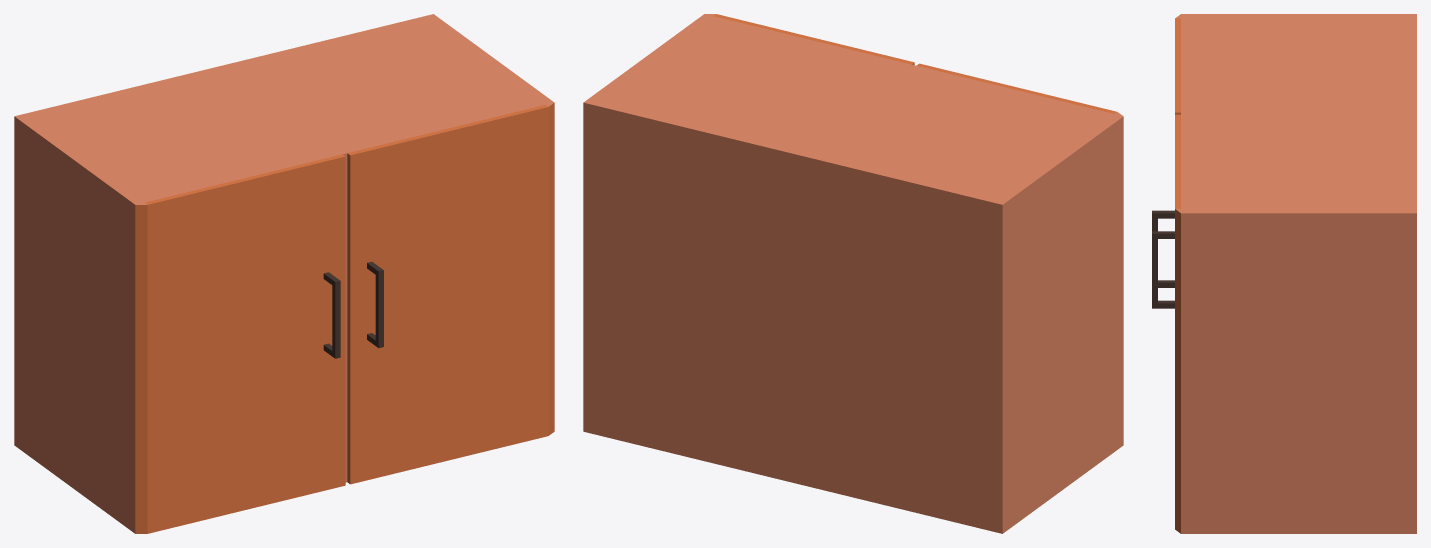
The model's file is meublesCuisineBas5fbx.fbx.
The picture shows the model from 3 angles, left to right: view 1: azimuth 30°, elevation 25°; view 2: azimuth 150°, elevation 25°; view 3: azimuth 270°, elevation 25°; orthographic projection. The views are drawn at different scales.
Parts seen in each view (by area): view 1: placard2; view 2: placard2; view 3: placard2.
Boxes of the visible parts, x1,y1,x2,y2 form: placard2: [14, 14, 554, 533]; placard2: [583, 14, 1123, 533]; placard2: [1152, 14, 1416, 533].
Bounding box in the file's own units: 400 × 300 × 224.
